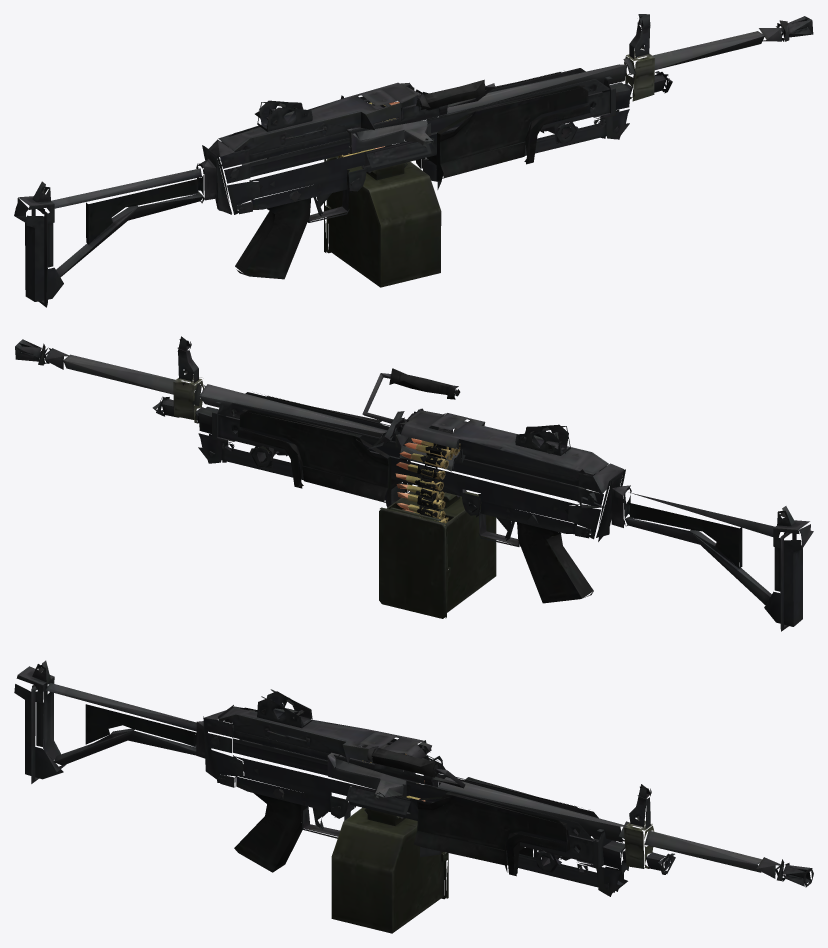
File: lmg_med.glb
3 renders of one model, top to bottom at view 1: azimuth 30°, elevation 25°; view 2: azimuth 150°, elevation 25°; view 3: azimuth 330°, elevation 25°, orthographic.
Visible parts, largest first — view 1: body, mag, cover; view 2: body, mag, cover; view 3: body, mag, cover.
Part boxes in pixels (x1,y1,x2,y2): body: (14,14,813,307); mag: (324,101,441,287); cover: (218,82,420,154); body: (15,336,813,631); mag: (379,438,496,618); cover: (395,408,608,478); body: (14,660,813,896); mag: (331,743,448,933); cover: (219,689,431,772).
Size of the model in its own units: 1.04 by 0.2395 by 0.136.
Materials: 1 (1 with a texture image).
